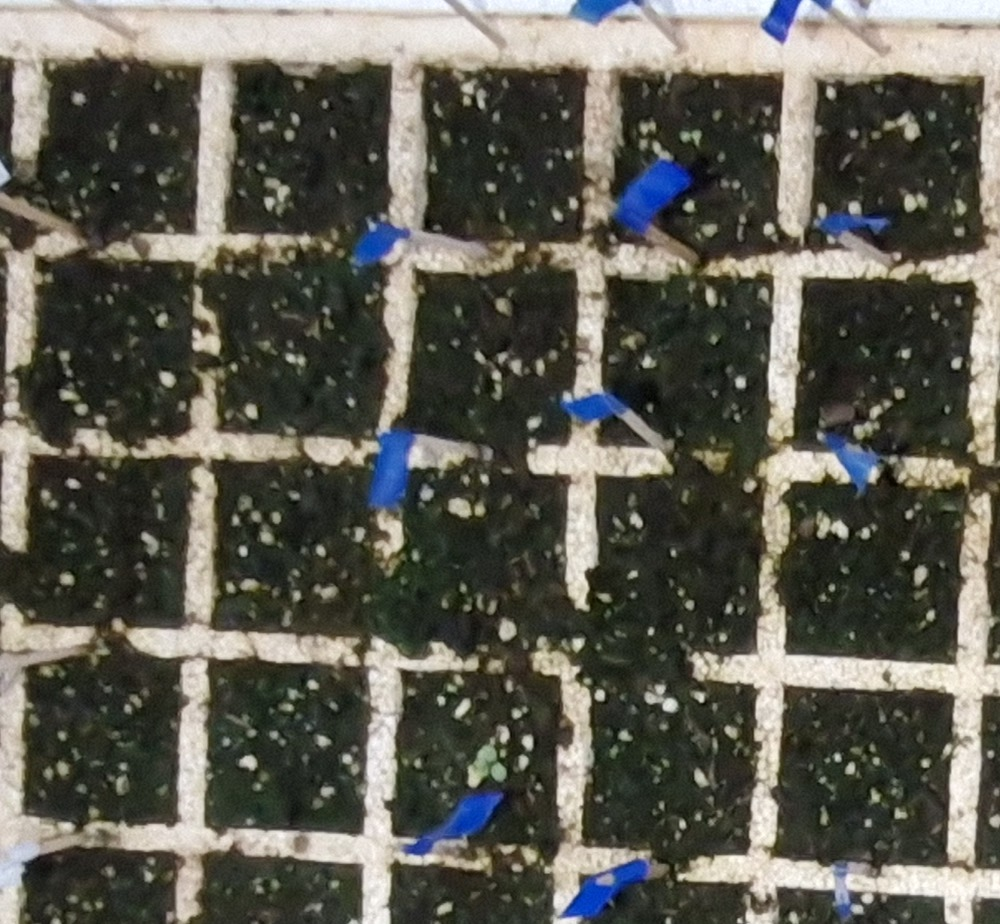Folha: (491, 760, 507, 780), (478, 746, 498, 761), (472, 756, 488, 772)
Germinacao: (472, 742, 508, 783)
